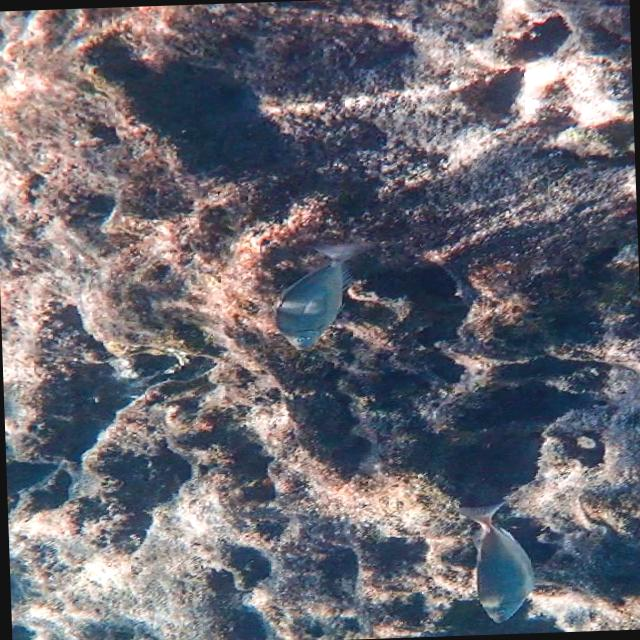Sokar Baligi: (254, 234, 390, 358), (445, 493, 548, 628)
